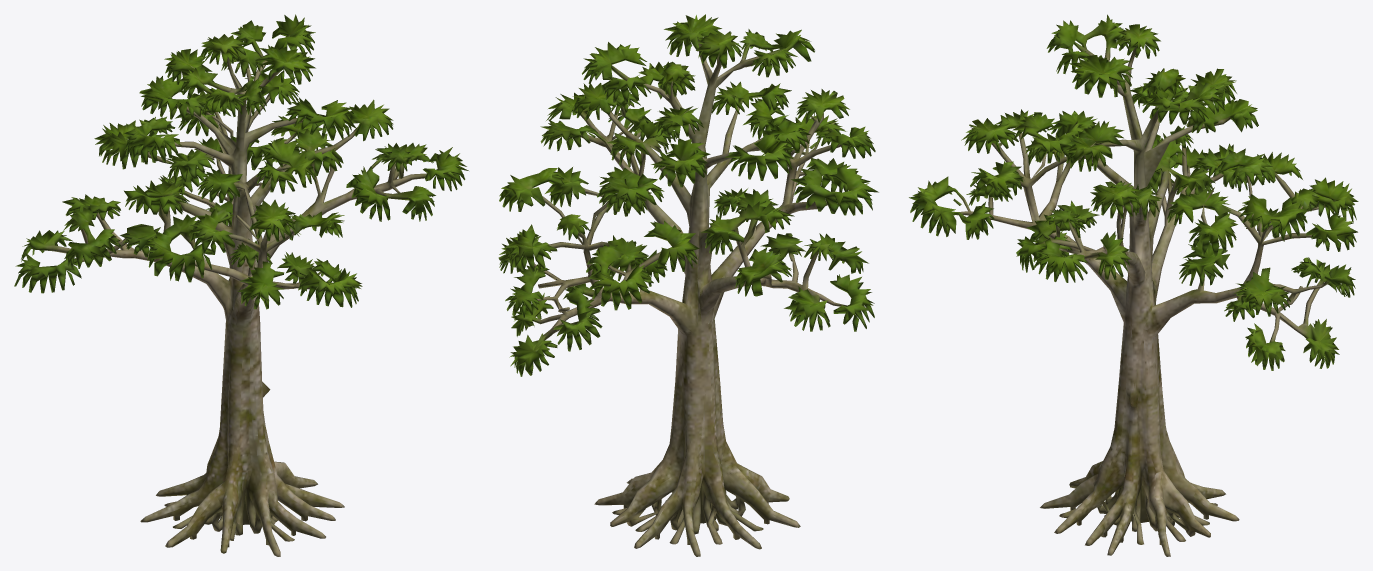
The model's file is VEG_CeibaJoven_01_LOD0.fbx.
3 renders of one model, left to right at view 1: azimuth 30°, elevation 25°; view 2: azimuth 150°, elevation 25°; view 3: azimuth 270°, elevation 25°, orthographic.
Visible parts, largest first — view 1: VEG_CeibaJoven_01_Mesh000; view 2: VEG_CeibaJoven_01_Mesh000; view 3: VEG_CeibaJoven_01_Mesh000.
Boxes of the visible parts, <box> form: VEG_CeibaJoven_01_Mesh000: <box>14,14,468,556</box>; VEG_CeibaJoven_01_Mesh000: <box>498,14,878,556</box>; VEG_CeibaJoven_01_Mesh000: <box>909,14,1358,556</box>.
Bounding box in the file's own units: 7.45 × 9 × 7.73.
